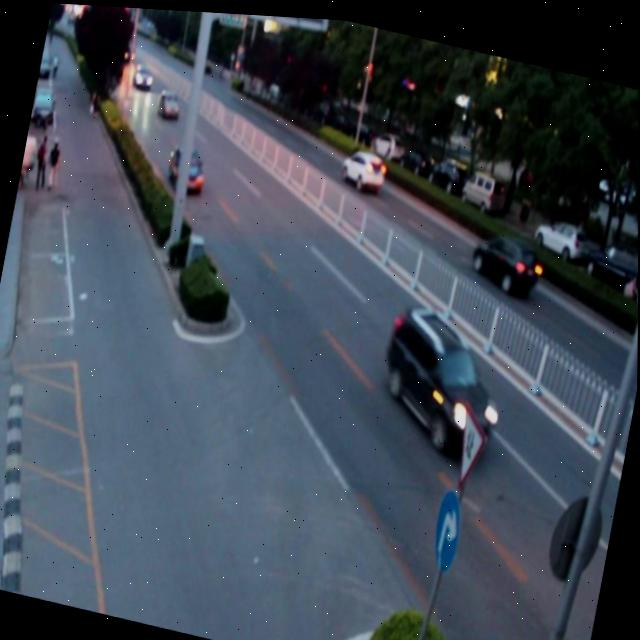car: (372, 293, 509, 457), (467, 216, 542, 291), (163, 139, 209, 197), (337, 140, 387, 192), (154, 82, 183, 120)
